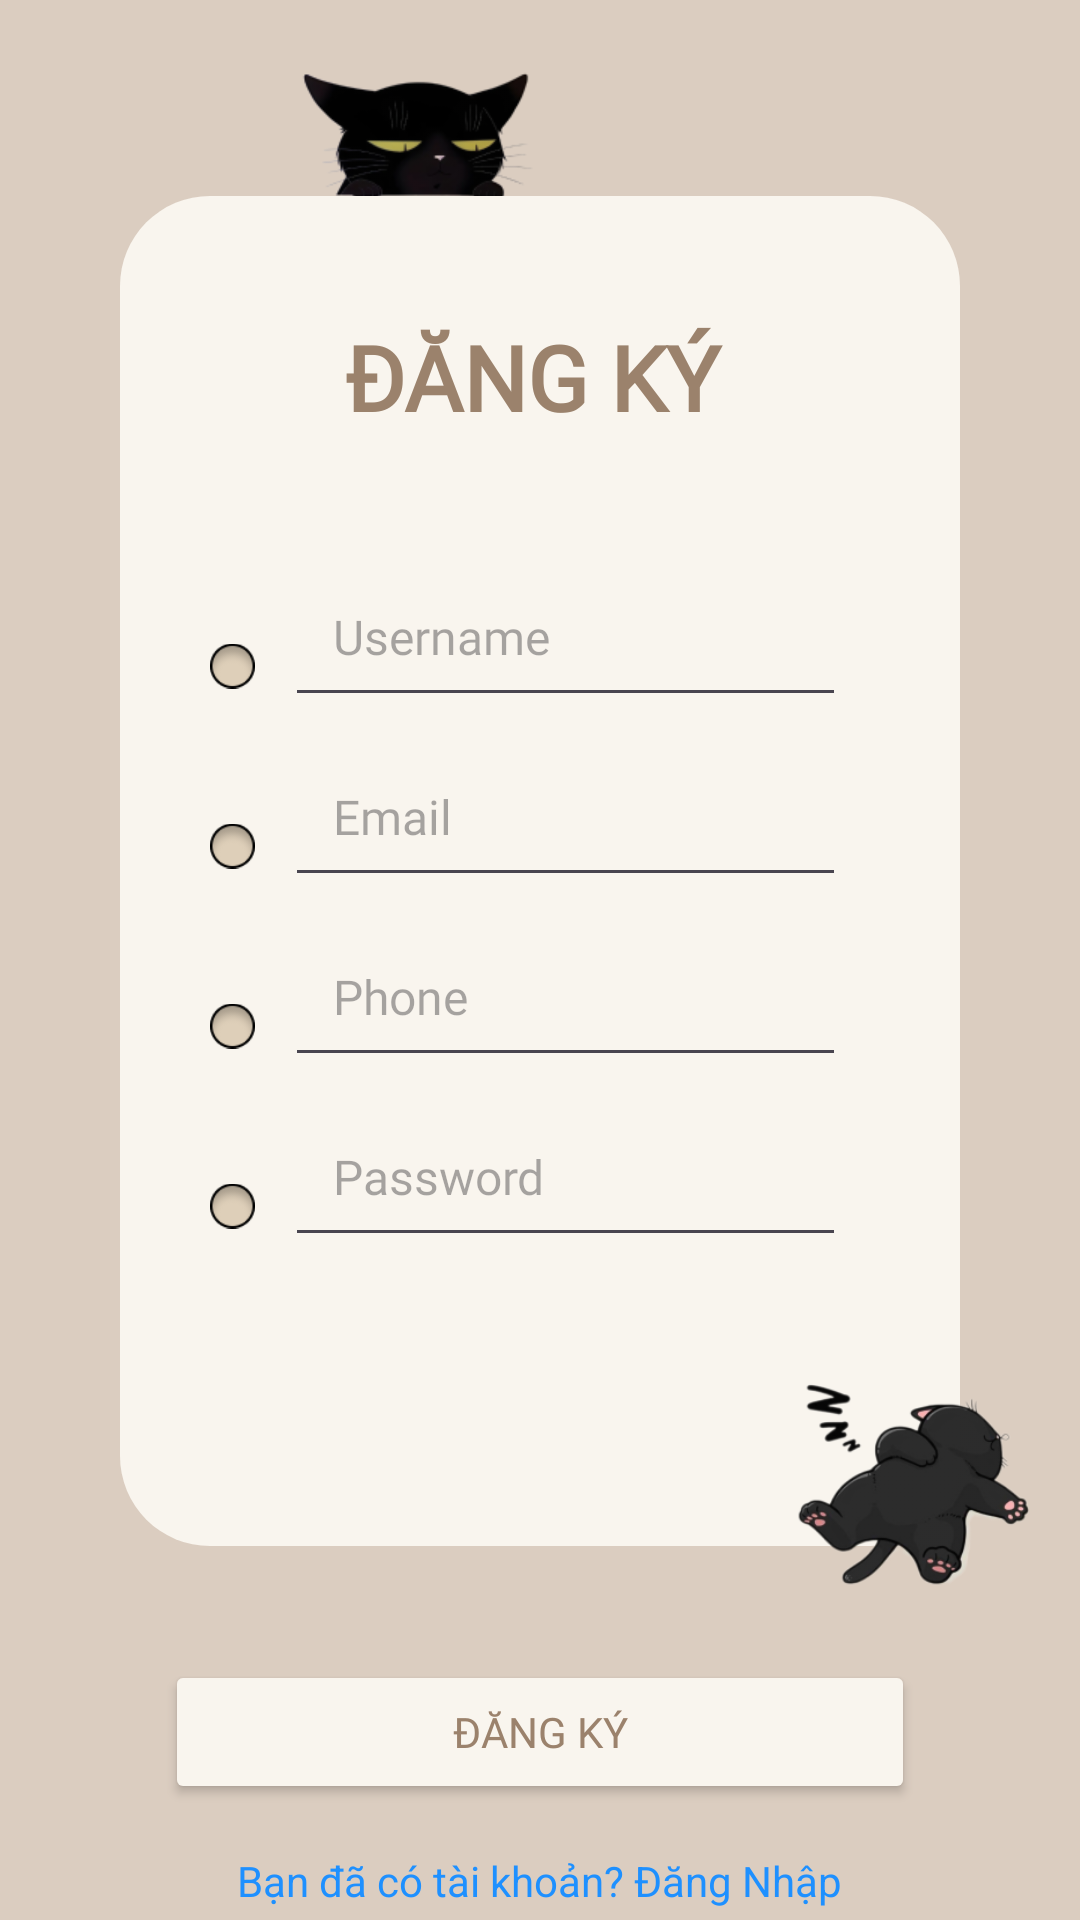

Where to tap for icons on this 1080*1920 app screen, as [x,y]:
cat: [420,162], [907,1480]
